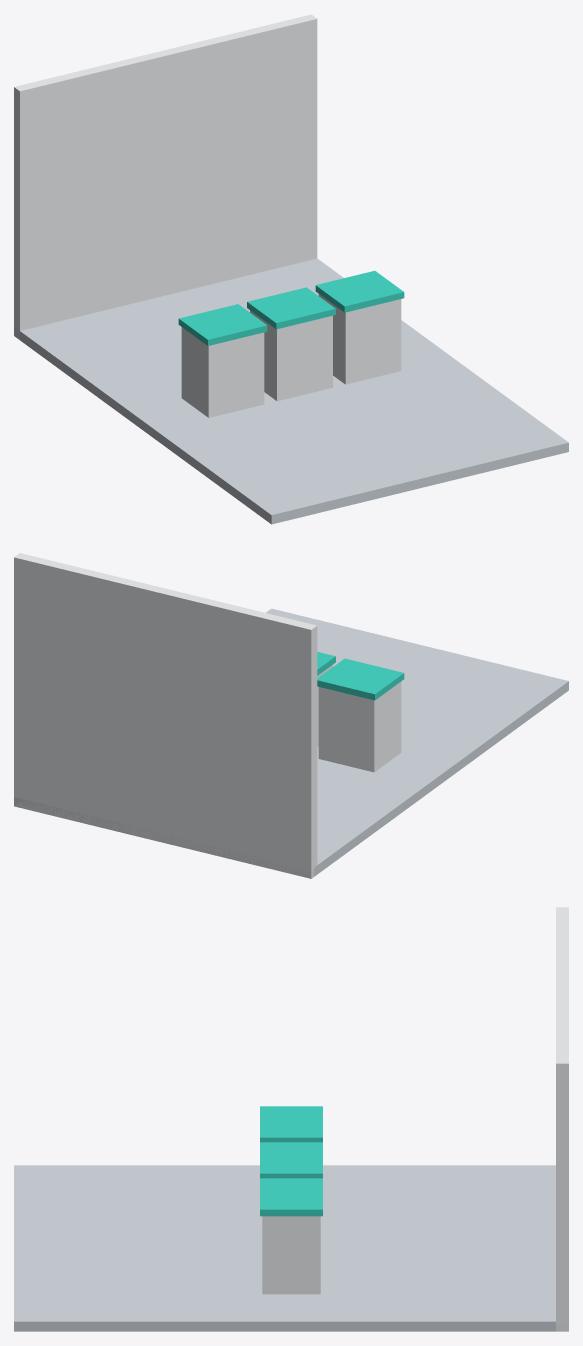
3 views of the same model, one above another, from view 1: azimuth 30°, elevation 25°; view 2: azimuth 150°, elevation 25°; view 3: azimuth 270°, elevation 25° (orthographic). The views are drawn at different scales.
Parts seen in each view (by area): view 1: Exhibition Booth Concept; view 2: Exhibition Booth Concept; view 3: Exhibition Booth Concept.
Part boxes in pixels (bbox=[...]): Exhibition Booth Concept: bbox=[14, 14, 568, 524]; Exhibition Booth Concept: bbox=[14, 553, 568, 878]; Exhibition Booth Concept: bbox=[14, 907, 568, 1331].
Size of the model in its own units: 4 by 3.2 by 6.
